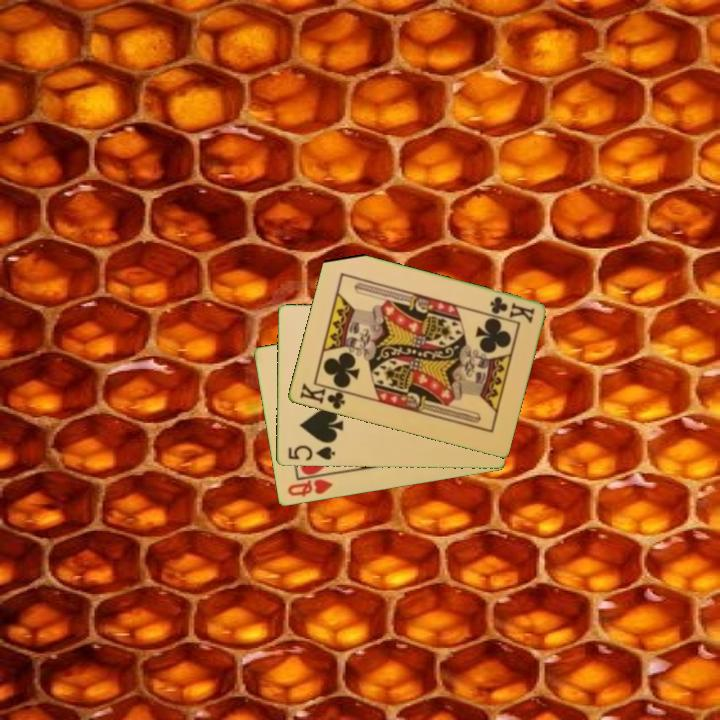5s: (285, 442, 338, 464)
Kc: (296, 379, 352, 412), (486, 293, 537, 326)
Qh: (284, 476, 335, 500)
